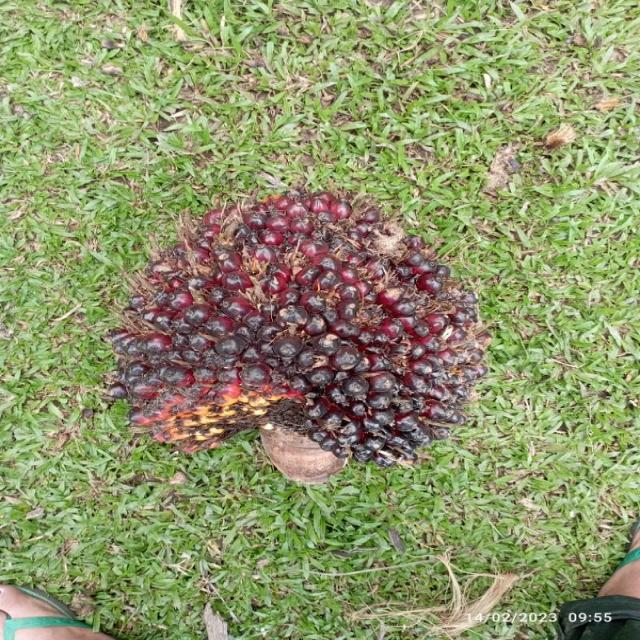fraksi 1: (56, 145, 482, 544)
